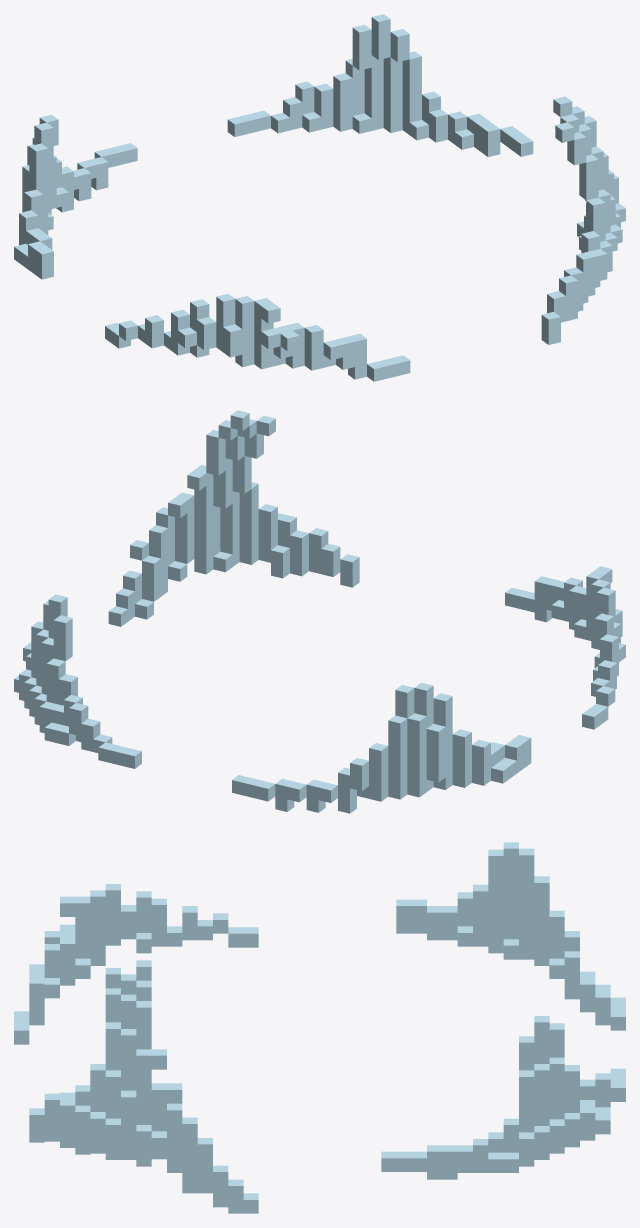
The model's file is Ana_Branca#c8edfd.dae.
3 views of the same model, one above another, from view 1: azimuth 30°, elevation 25°; view 2: azimuth 150°, elevation 25°; view 3: azimuth 270°, elevation 25° (orthographic). The views are drawn at different scales.
Visible parts, largest first — view 1: Ana_Branca#c8edfd-obj.vox; view 2: Ana_Branca#c8edfd-obj.vox; view 3: Ana_Branca#c8edfd-obj.vox.
Part boxes in pixels (<box>): Ana_Branca#c8edfd-obj.vox: <box>14,14,625,381</box>; Ana_Branca#c8edfd-obj.vox: <box>14,410,625,813</box>; Ana_Branca#c8edfd-obj.vox: <box>14,842,625,1213</box>.
Size of the model in its own units: 4 by 4 by 1.5.
